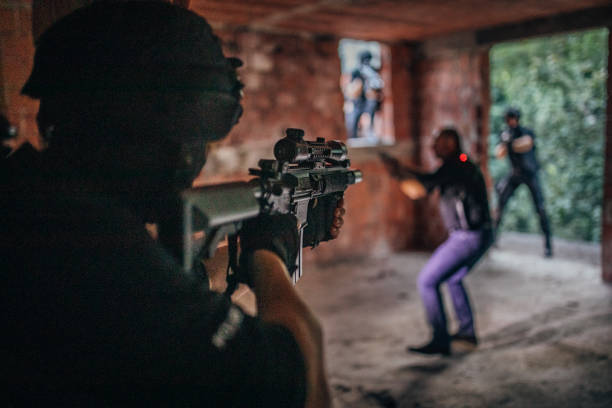terrorist: (70, 24, 462, 339)
